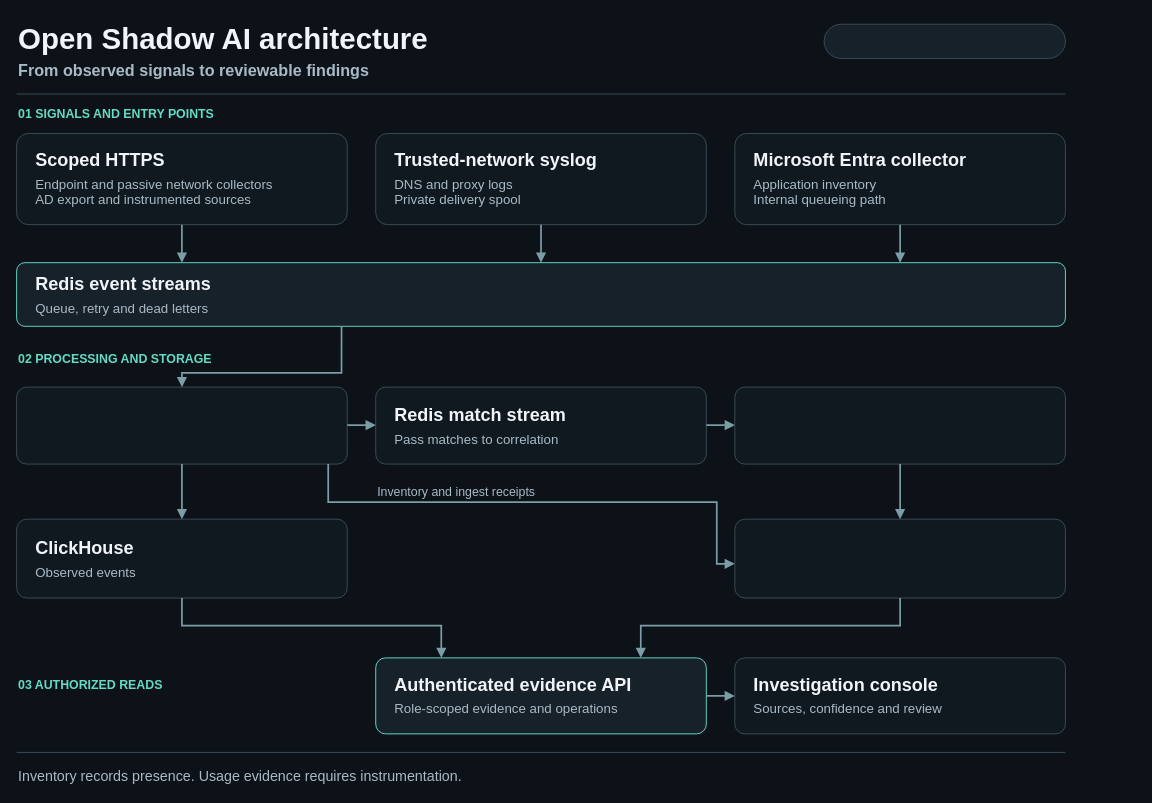
Image size: 1152x803. Some labels were removed from this diagram. The shapes that lost their labels are listed below. From the top down, each one's centre as x and y in pixels, then its label:
point 944,40: ONE ORGANIZATION PER INSTALL
point 181,425: Ingest worker + catalog Record events and match source evidence
point 899,425: Correlation worker Update detections and risk snapshots
point 899,558: PostgreSQL Detections, governance, inventory and receipts
